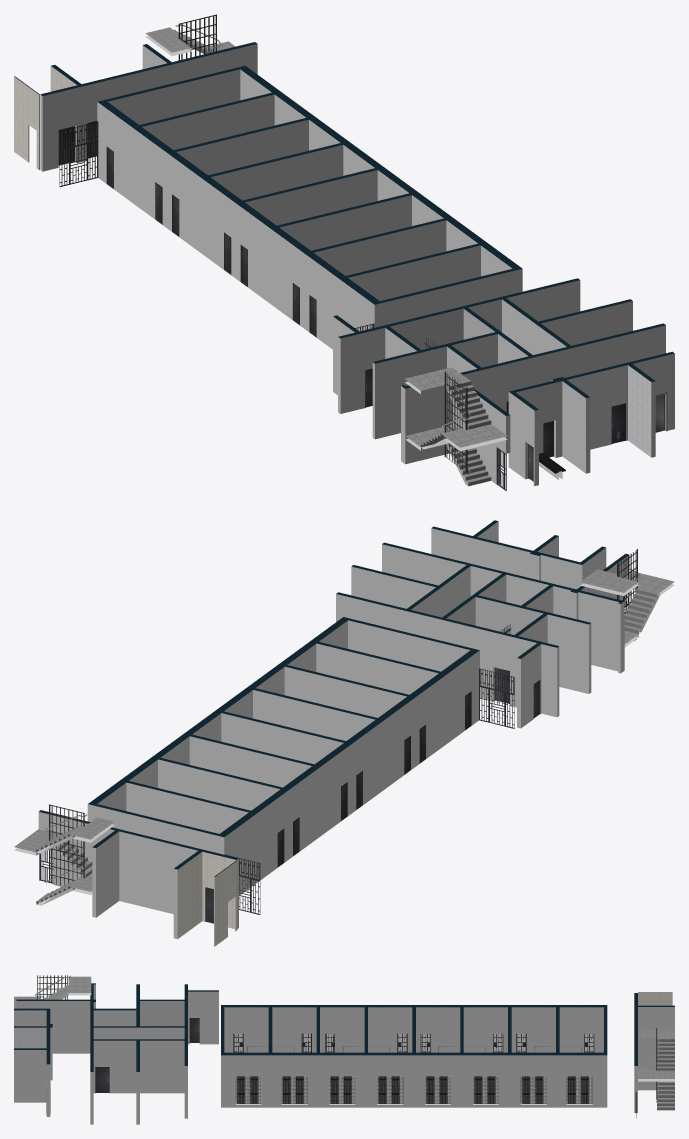
Rendered from hkjls_hkjls_f02_in_T005.obj.
3 renders of one model, top to bottom at view 1: azimuth 30°, elevation 25°; view 2: azimuth 150°, elevation 25°; view 3: azimuth 270°, elevation 25°, orthographic. The views are drawn at different scales.
Visible parts, largest first — view 1: hkjls_hkjls_f02_in_001_H005, hkjls_hkjls_f02_in_005_H005, hkjls_hkjls_f02_in_002_H005, hkjls_hkjls_f02_in_010_H005, hkjls_hkjls_f02_in_008_H005, hkjls_hkjls_f02_in_003_H005, hkjls_hkjls_f02_in_004_H005, hkjls_hkjls_f02_in_012_H005, hkjls_hkjls_f02_in_011_H005, hkjls_hkjls_f02_in_007_H005; view 2: hkjls_hkjls_f02_in_001_H005, hkjls_hkjls_f02_in_005_H005, hkjls_hkjls_f02_in_004_H005, hkjls_hkjls_f02_in_010_H005, hkjls_hkjls_f02_in_008_H005, hkjls_hkjls_f02_in_003_H005, hkjls_hkjls_f02_in_012_H005, hkjls_hkjls_f02_in_011_H005, hkjls_hkjls_f02_in_007_H005; view 3: hkjls_hkjls_f02_in_001_H005, hkjls_hkjls_f02_in_005_H005, hkjls_hkjls_f02_in_ch_T015, hkjls_hkjls_f02_in_008_H005, hkjls_hkjls_f02_in_003_H005, hkjls_hkjls_f02_in_010_H005, hkjls_hkjls_f02_in_002_H005, hkjls_hkjls_f02_in_012_H005, hkjls_hkjls_f02_in_013_H005, hkjls_hkjls_f02_in_004_H005, hkjls_hkjls_f02_in_027_l_T001, hkjls_hkjls_f02_in_011_H005 (+1 smaller).
Boxes of the visible parts, x1=… form: hkjls_hkjls_f02_in_001_H005: x1=40, y1=36, x2=674, y2=485; hkjls_hkjls_f02_in_005_H005: x1=14, y1=42, x2=674, y2=415; hkjls_hkjls_f02_in_002_H005: x1=567, y1=365, x2=651, y2=457; hkjls_hkjls_f02_in_010_H005: x1=145, y1=28, x2=507, y2=447; hkjls_hkjls_f02_in_008_H005: x1=165, y1=27, x2=491, y2=486; hkjls_hkjls_f02_in_003_H005: x1=390, y1=308, x2=494, y2=349; hkjls_hkjls_f02_in_004_H005: x1=14, y1=66, x2=562, y2=479; hkjls_hkjls_f02_in_012_H005: x1=59, y1=14, x2=625, y2=490; hkjls_hkjls_f02_in_011_H005: x1=180, y1=14, x2=465, y2=471; hkjls_hkjls_f02_in_007_H005: x1=60, y1=122, x2=372, y2=331; hkjls_hkjls_f02_in_001_H005: x1=14, y1=528, x2=674, y2=938; hkjls_hkjls_f02_in_005_H005: x1=39, y1=520, x2=628, y2=876; hkjls_hkjls_f02_in_004_H005: x1=177, y1=851, x2=237, y2=946; hkjls_hkjls_f02_in_010_H005: x1=14, y1=571, x2=674, y2=891; hkjls_hkjls_f02_in_008_H005: x1=36, y1=569, x2=659, y2=904; hkjls_hkjls_f02_in_003_H005: x1=446, y1=597, x2=543, y2=634; hkjls_hkjls_f02_in_012_H005: x1=39, y1=549, x2=637, y2=921; hkjls_hkjls_f02_in_011_H005: x1=50, y1=550, x2=637, y2=885; hkjls_hkjls_f02_in_007_H005: x1=239, y1=669, x2=514, y2=913; hkjls_hkjls_f02_in_001_H005: x1=14, y1=984, x2=674, y2=1124; hkjls_hkjls_f02_in_005_H005: x1=14, y1=983, x2=674, y2=1071; hkjls_hkjls_f02_in_ch_T015: x1=235, y1=1076, x2=592, y2=1103; hkjls_hkjls_f02_in_008_H005: x1=37, y1=985, x2=674, y2=1110; hkjls_hkjls_f02_in_003_H005: x1=140, y1=1001, x2=184, y2=1026; hkjls_hkjls_f02_in_010_H005: x1=14, y1=976, x2=674, y2=1078; hkjls_hkjls_f02_in_002_H005: x1=14, y1=1027, x2=46, y2=1048; hkjls_hkjls_f02_in_012_H005: x1=37, y1=975, x2=656, y2=1112; hkjls_hkjls_f02_in_013_H005: x1=35, y1=975, x2=658, y2=1113; hkjls_hkjls_f02_in_004_H005: x1=638, y1=992, x2=672, y2=1005; hkjls_hkjls_f02_in_027_l_T001: x1=95, y1=1067, x2=109, y2=1092; hkjls_hkjls_f02_in_011_H005: x1=38, y1=975, x2=183, y2=1026.
Size of the model in its own units: 1446 by 525 by 4556.
Materials: 19 (19 with a texture image).
